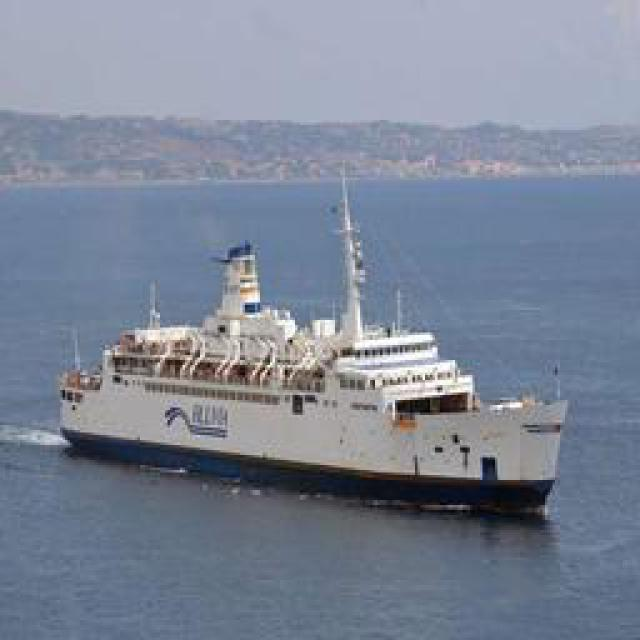Ship: (56, 199, 571, 504)
